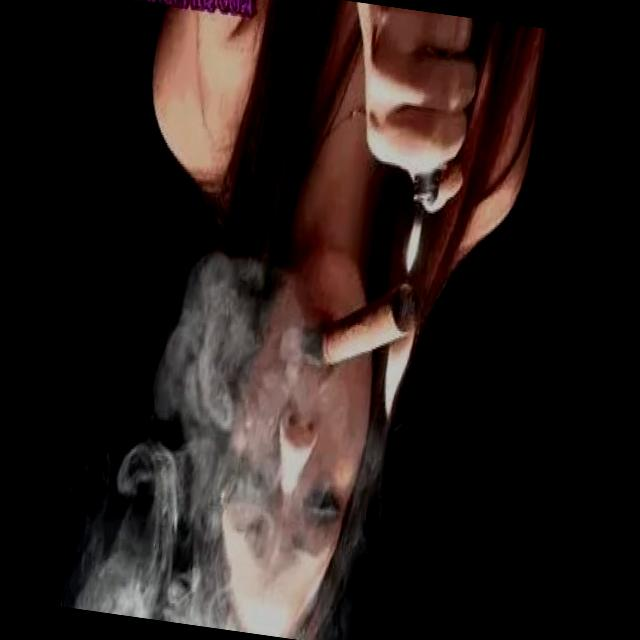cigarette: (304, 270, 424, 380)
